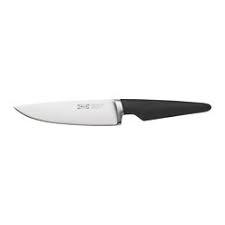knives: (7, 54, 217, 152)
